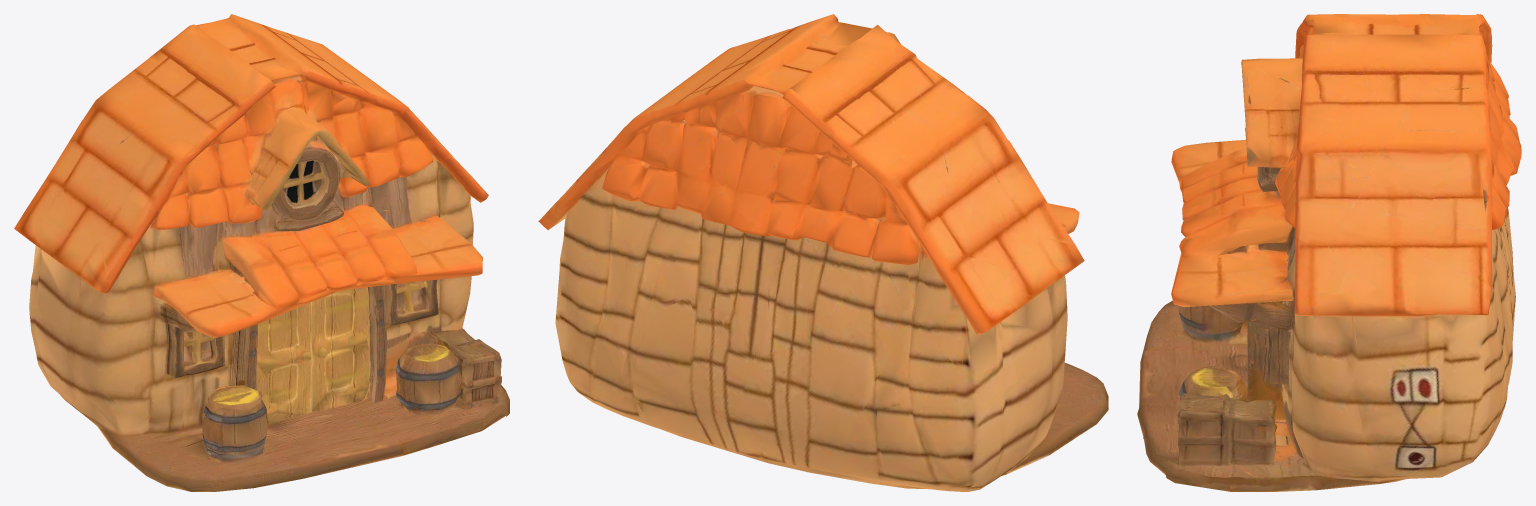
Rendered from storage.glb.
3 views of the same model, side by side, from view 1: azimuth 30°, elevation 25°; view 2: azimuth 150°, elevation 25°; view 3: azimuth 270°, elevation 25° (orthographic). The views are drawn at different scales.
Bounding box in the file's own units: 1.9 × 1.54 × 1.44.
1 material, 1 textured.
